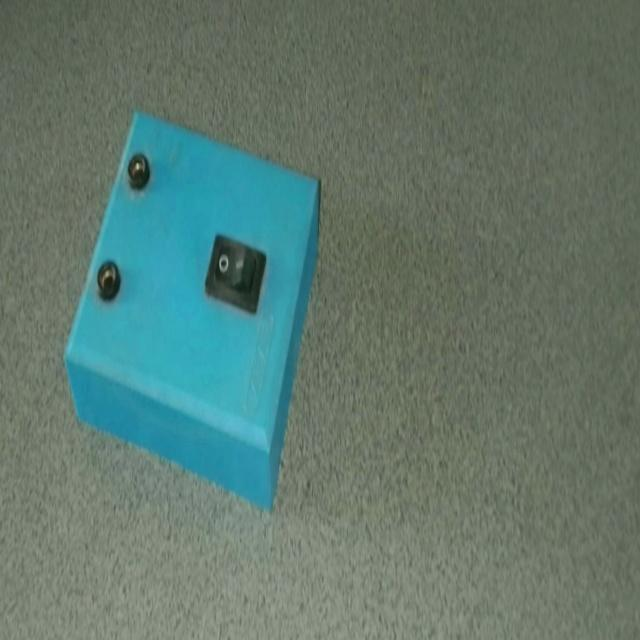ON-OFF Switch: (58, 103, 342, 538)
